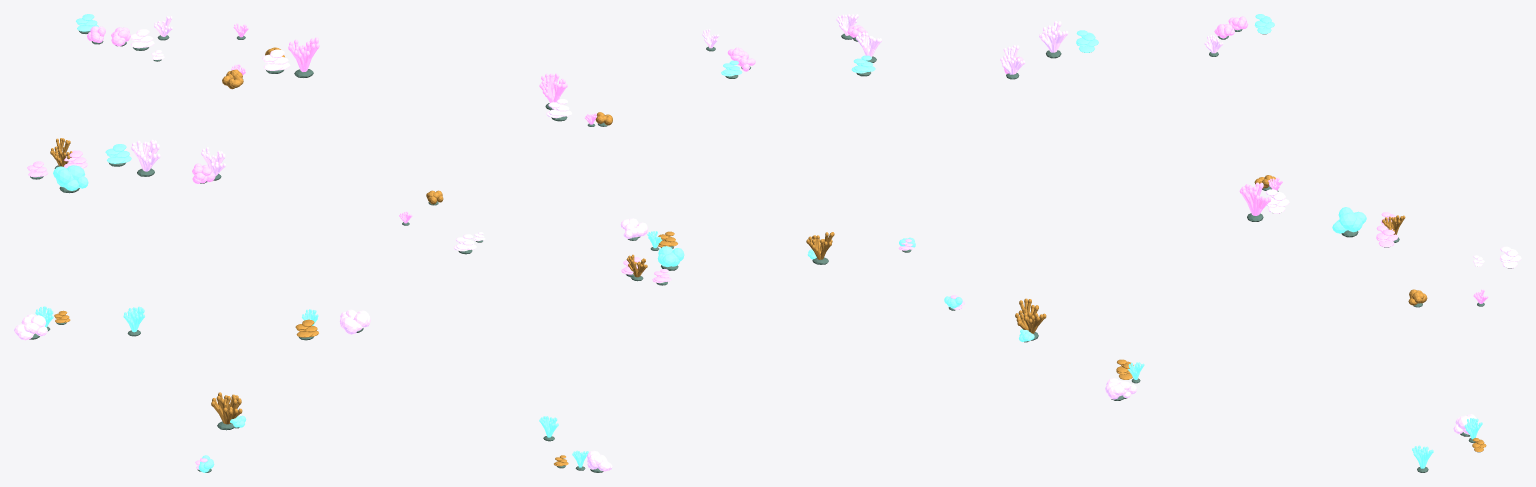
File: coral_03.glb
3 renders of one model, left to right at view 1: azimuth 30°, elevation 25°; view 2: azimuth 150°, elevation 25°; view 3: azimuth 270°, elevation 25°, orthographic. The views are drawn at different scales.
Parts seen in each view (by area): view 1: coral_03; view 2: coral_03; view 3: coral_03.
Part boxes in pixels (x1,y1,x2,y2): coral_03: (14,14,370,472); coral_03: (399,14,915,472); coral_03: (944,14,1521,472).
Bounding box in the file's own units: 51.89 × 59.36 × 77.52.
